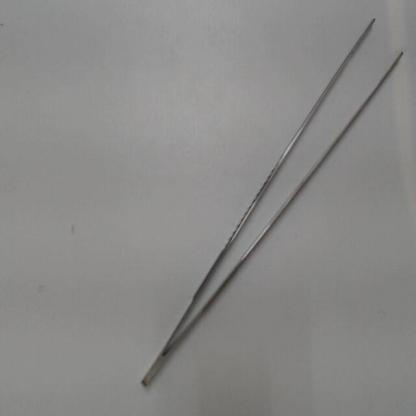DeBakey Dissector: (125, 7, 413, 410)
